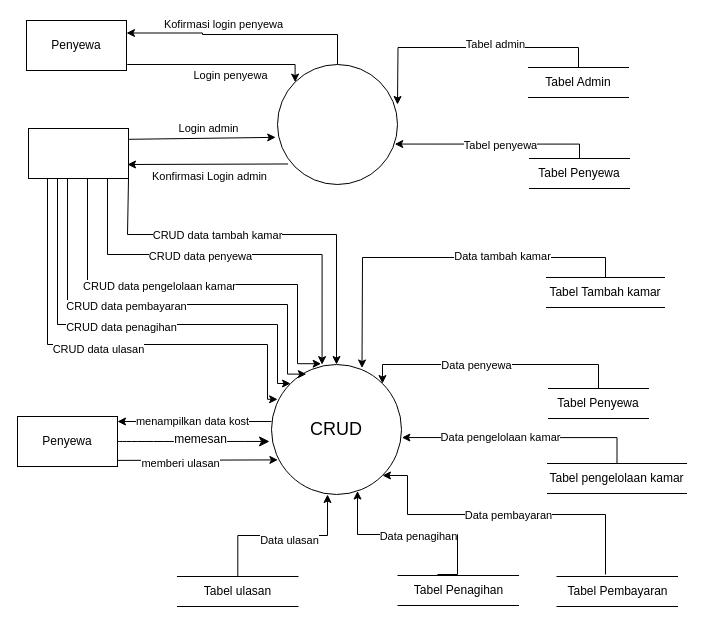
This 704x624 diagram has some shape labels left out. The centre of each missing label's shape, as x and y in pixels:
admin: the point at 78,153
login: the point at 337,124
